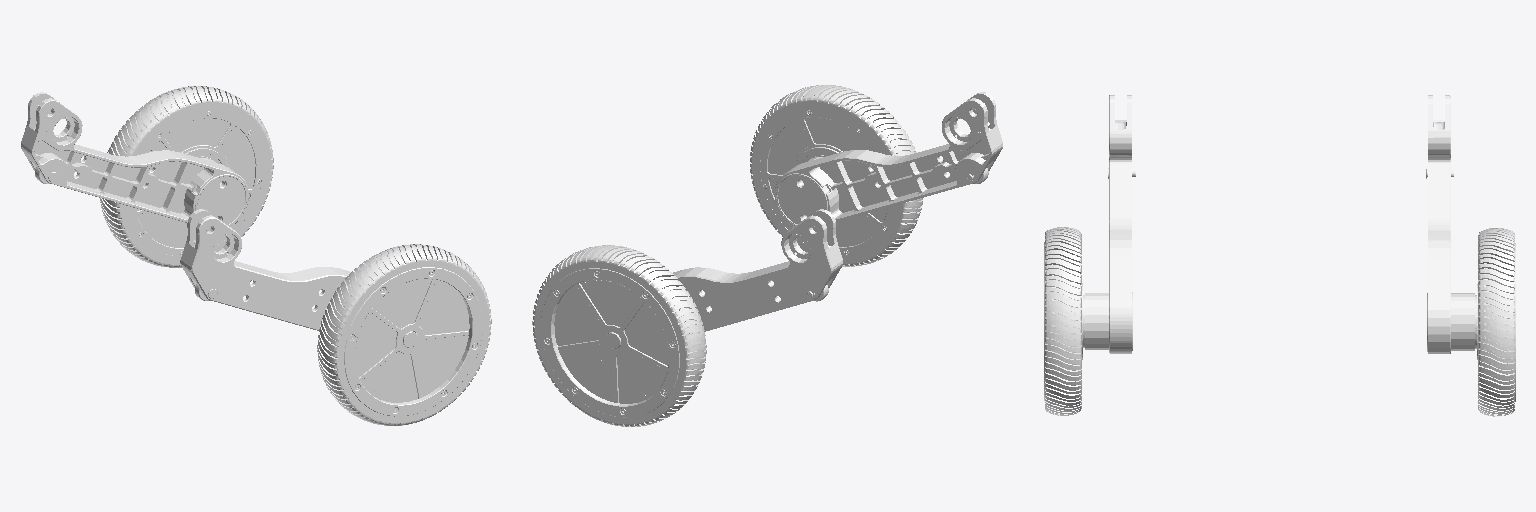
robot.urdf — diablo_plus2:
<?xml version="1.0" encoding="utf-8"?>
<!-- This URDF was automatically created by SolidWorks to URDF Exporter! Originally created by [author] ([email redacted]) 
     Commit Version: 1.6.0-4-g7f85cfe  Build Version: 1.6.7995.38578
     For more information, please see http://wiki.ros.org/sw_urdf_exporter -->
<robot
  name="diablo_plus2">
  <link
    name="base_link">
    <inertial>
      <origin
        xyz="-0.002707 -0.0049409 0.15092"
        rpy="0 0 0" />
      <mass
        value="11.4726" />
      <inertia
        ixx="0.8371974"
        ixy="-0.06254957"
        ixz="-0.01618499"
        iyy="0.8708397"
        iyz="0.003006719"
        izz="0.3425067" />
    </inertial>
    <visual>
      <origin
        xyz="0 0 0"
        rpy="0 0 0" />
      <geometry>
        <mesh
          filename="../meshes/base_link.STL" />
      </geometry>
      <material
        name="">
        <color
          rgba="1 1 1 1" />
      </material>
    </visual>
    <collision>
      <origin
        xyz="0 0 0"
        rpy="0 0 0" />
      <geometry>
        <mesh
          filename="../meshes/base_link.STL" />
      </geometry>
    </collision>
  </link>
  <link
    name="left_hip">
    <inertial>
      <origin
        xyz="-0.033875 0.083817 -0.025481"
        rpy="0 0 0" />
      <mass
        value="2.0" />
      <inertia
        ixx="0.01137421"
        ixy="0.00070511460"
        ixz="0.00124554"
        iyy="0.0082006541"
        iyz="0.0029798900"
        izz="0.0060506903" />
    </inertial>
    <visual>
      <origin
        xyz="0 0 0"
        rpy="0 0 0" />
      <geometry>
        <mesh
          filename="../meshes/left_hip.STL" />
      </geometry>
      <material
        name="">
        <color
          rgba="1 1 1 1" />
      </material>
    </visual>
    <collision>
      <origin
        xyz="0 0 0"
        rpy="0 0 0" />
      <geometry>
        <mesh
          filename="../meshes/left_hip.STL" />
      </geometry>
    </collision>
  </link>
  <joint
    name="left_hip_joint"
    type="revolute">
    <origin
      xyz="0 0.0428 0.075997"
      rpy="0 0 0" />
    <parent
      link="base_link" />
    <child
      link="left_hip" />
    <axis
      xyz="0 1 0" />
    <limit
      lower="-3.14"
      upper="3.14"
      effort="100"
      velocity="10" />
  </joint>
  <link
    name="left_knee">
    <inertial>
      <origin
        xyz="0.085224 -0.0055133 -0.069937"
        rpy="0 0 0" />
      <mass
        value="2.0" />
      <inertia
        ixx="0.0044665319"
        ixy="1.2345077E-05"
        ixz="-0.00023975799"
        iyy="0.0046256777"
        iyz="-0.00022848392"
        izz="0.0002702575" />
    </inertial>
    <visual>
      <origin
        xyz="0 0 0"
        rpy="0 0 0" />
      <geometry>
        <mesh
          filename="../meshes/left_knee.STL" />
      </geometry>
      <material
        name="">
        <color
          rgba="1 1 1 1" />
      </material>
    </visual>
    <collision>
      <origin
        xyz="0 0 0"
        rpy="0 0 0" />
      <geometry>
        <mesh
          filename="../meshes/left_knee.STL" />
      </geometry>
    </collision>
  </link>
  <joint
    name="left_knee_joint"
    type="revolute">
    <origin
      xyz="-0.15051 0.11148 -0.1317"
      rpy="0 0 0" />
    <parent
      link="left_hip" />
    <child
      link="left_knee" />
    <axis
      xyz="0 1 0" />
    <limit
      lower="-3.14"
      upper="3.14"
      effort="100"
      velocity="10" />
  </joint>
  <link
    name="left_wheel">
    <inertial>
      <origin
        xyz="-7.0925E-06 0.017953 1.1379E-05"
        rpy="0 0 0" />
      <mass
        value="1.63" />
      <inertia
        ixx="0.0038687294"
        ixy="3.4674606E-07"
        ixz="-6.1772612E-09"
        iyy="0.0073579312"
        iyz="-4.5317897E-09"
        izz="0.0038687049" />
    </inertial>
    <visual>
      <origin
        xyz="0 0 0"
        rpy="0 0 0" />
      <geometry>
        <mesh
          filename="../meshes/left_wheel.STL" />
      </geometry>
      <material
        name="">
        <color
          rgba="1 1 1 1" />
      </material>
    </visual>
    <collision>
      <origin
        xyz="0 0 0"
        rpy="0 0 0" />
      <geometry>
        <mesh
          filename="../meshes/left_wheel.STL" />
      </geometry>
    </collision>
  </link>
  <joint
    name="left_wheel_joint"
    type="revolute">
    <origin
      xyz="0.16611 0.02266 -0.11138"
      rpy="0 0 0" />
    <parent
      link="left_knee" />
    <child
      link="left_wheel" />
    <axis
      xyz="0 1 0" />
    <limit
      effort="20"
      velocity="30" />
  </joint>
  <link
    name="right_hip">
    <inertial>
      <origin
        xyz="-0.03368 -0.083816 -0.025625"
        rpy="0 0 0" />
      <mass
        value="2.0" />
      <inertia
        ixx="0.01137421"
        ixy="0.00070511460"
        ixz="0.00124554"
        iyy="0.0082006541"
        iyz="0.0029798900"
        izz="0.0060506903" />
    </inertial>
    <visual>
      <origin
        xyz="0 0 0"
        rpy="0 0 0" />
      <geometry>
        <mesh
          filename="../meshes/right_hip.STL" />
      </geometry>
      <material
        name="">
        <color
          rgba="1 1 1 1" />
      </material>
    </visual>
    <collision>
      <origin
        xyz="0 0 0"
        rpy="0 0 0" />
      <geometry>
        <mesh
          filename="../meshes/right_hip.STL" />
      </geometry>
    </collision>
  </link>
  <joint
    name="right_hip_joint"
    type="revolute">
    <origin
      xyz="0 -0.0528 0.075997"
      rpy="0 0 0" />
    <parent
      link="base_link" />
    <child
      link="right_hip" />
    <axis
      xyz="0 1 0" />
    <limit
      lower="-3.14"
      upper="3.14"
      effort="100"
      velocity="10" />
  </joint>
  <link
    name="right_knee">
    <inertial>
      <origin
        xyz="0.085339 -0.0022639 -0.069432"
        rpy="0 0 0" />
      <mass
        value="2.0" />
      <inertia
        ixx="0.0044665319"
        ixy="1.2345077E-05"
        ixz="-0.00023975799"
        iyy="0.0046256777"
        iyz="-0.00022848392"
        izz="0.0002702575" />
    </inertial>
    <visual>
      <origin
        xyz="0 0 0"
        rpy="0 0 0" />
      <geometry>
        <mesh
          filename="../meshes/right_knee.STL" />
      </geometry>
      <material
        name="">
        <color
          rgba="1 1 1 1" />
      </material>
    </visual>
    <collision>
      <origin
        xyz="0 0 0"
        rpy="0 0 0" />
      <geometry>
        <mesh
          filename="../meshes/right_knee.STL" />
      </geometry>
    </collision>
  </link>
  <joint
    name="right_knee_joint"
    type="revolute">
    <origin
      xyz="-0.15071 -0.10364 -0.13147"
      rpy="0 0 0" />
    <parent
      link="right_hip" />
    <child
      link="right_knee" />
    <axis
      xyz="0 1 0" />
    <limit
      lower="-3.14"
      upper="3.14"
      effort="100"
      velocity="10" />
  </joint>
  <link
    name="right_wheel">
    <inertial>
      <origin
        xyz="-1.1629E-05 -0.017953 -6.6772E-06"
        rpy="0 0 0" />
      <mass
        value="1.63" />
      <inertia
        ixx="0.0038687294"
        ixy="3.4674606E-07"
        ixz="-6.1772612E-09"
        iyy="0.0073579312"
        iyz="-4.5317897E-09"
        izz="0.0038687049" />
    </inertial>
    <visual>
      <origin
        xyz="0 0 0"
        rpy="0 0 0" />
      <geometry>
        <mesh
          filename="../meshes/right_wheel.STL" />
      </geometry>
      <material
        name="">
        <color
          rgba="1 1 1 1" />
      </material>
    </visual>
    <collision>
      <origin
        xyz="0 0 0"
        rpy="0 0 0" />
      <geometry>
        <mesh
          filename="../meshes/right_wheel.STL" />
      </geometry>
    </collision>
  </link>
  <joint
    name="right_wheel_joint"
    type="revolute">
    <origin
      xyz="0.1666 -0.03046 -0.11066"
      rpy="0 0 0" />
    <parent
      link="right_knee" />
    <child
      link="right_wheel" />
    <axis
      xyz="0 1 0" />
    <limit
      effort="20"
      velocity="30" />
  </joint>
</robot>

--- What the picture shows (computed from the rendered views, not written in the file) ---
The picture shows the robot from 3 angles, left to right: view 1: azimuth 30°, elevation 25°; view 2: azimuth 150°, elevation 25°; view 3: azimuth 270°, elevation 25°; orthographic projection.
Model diablo_plus2 with 7 links and 6 joints (6 revolute), rooted at base_link, posed all joints at 0.
Links seen in each view (by area): view 1: right_wheel, left_wheel, left_knee, right_knee; view 2: left_wheel, right_wheel, right_knee, left_knee; view 3: right_wheel, left_wheel, left_knee, right_knee.
Link boxes in pixels (x1,y1,x2,y2): right_wheel: (317, 244, 491, 425); left_wheel: (100, 86, 273, 267); left_knee: (21, 92, 248, 226); right_knee: (180, 209, 350, 330); left_wheel: (532, 245, 706, 426); right_wheel: (750, 85, 922, 266); right_knee: (775, 92, 1002, 226); left_knee: (673, 209, 842, 331); right_wheel: (1044, 227, 1084, 415); left_wheel: (1475, 228, 1515, 416); left_knee: (1426, 95, 1474, 353); right_knee: (1085, 95, 1135, 353).
Size in the robot's own frame: 0.2912 by 0.4384 by 0.2346 metres.
4 mesh visuals loaded from 7 distinct referenced files (4 binary STL); not drawn: 3 (reference not matched to a file when rendering).